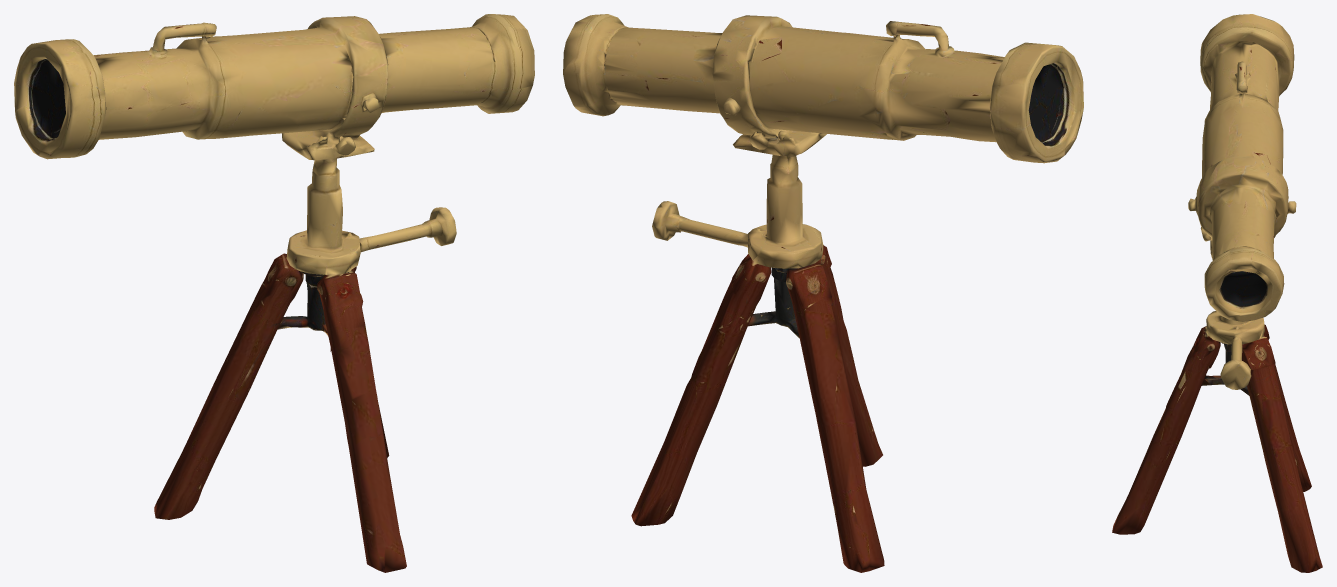
The model's file is telescope.glb.
3 views of the same model, side by side, from view 1: azimuth 30°, elevation 25°; view 2: azimuth 150°, elevation 25°; view 3: azimuth 270°, elevation 25° (orthographic). The views are drawn at different scales.
Bounding box in the file's own units: 1.81 × 1.9 × 0.8682.
1 material, 1 textured.
